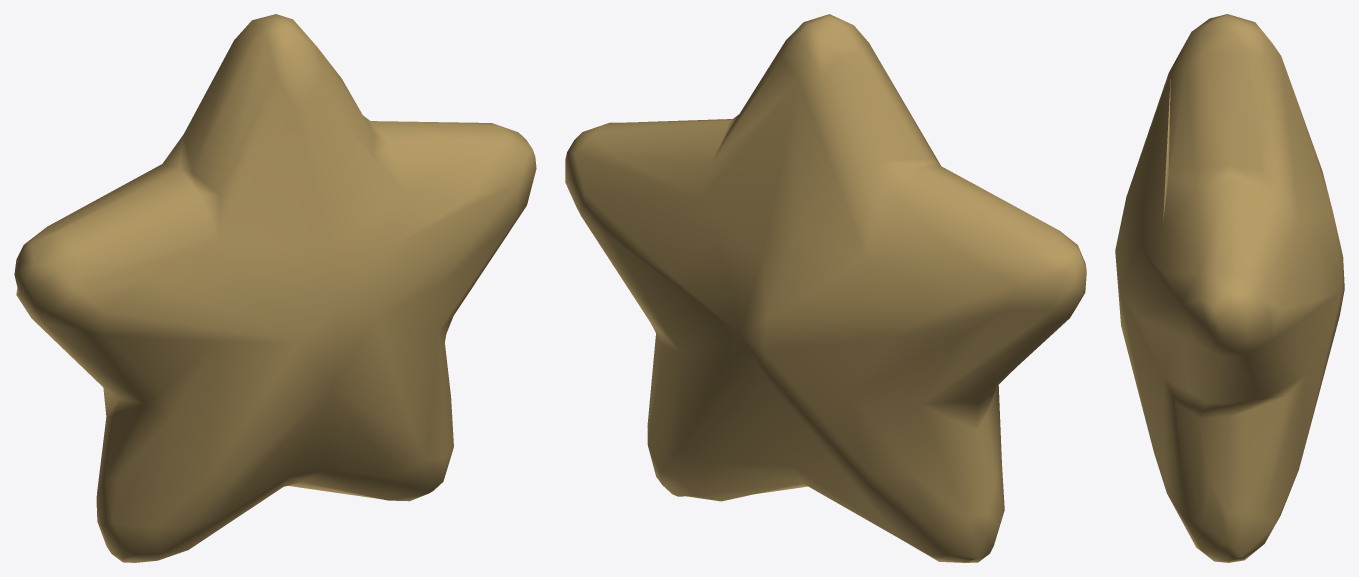
Rendered from star_01.medium.glb.
3 views of the same model, side by side, from view 1: azimuth 30°, elevation 25°; view 2: azimuth 150°, elevation 25°; view 3: azimuth 270°, elevation 25° (orthographic). The views are drawn at different scales.
Bounding box in the file's own units: 1.79 × 1.72 × 0.7408.
